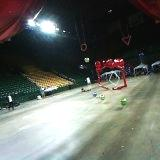Green_Balloon: (120, 97, 128, 107), (99, 94, 105, 101), (84, 57, 90, 63)
Orange_Circle_GShape: (80, 42, 87, 52)
Orange_Triangle_Gshape: (122, 36, 132, 46)
Purple_Balloon: (93, 92, 97, 97)
